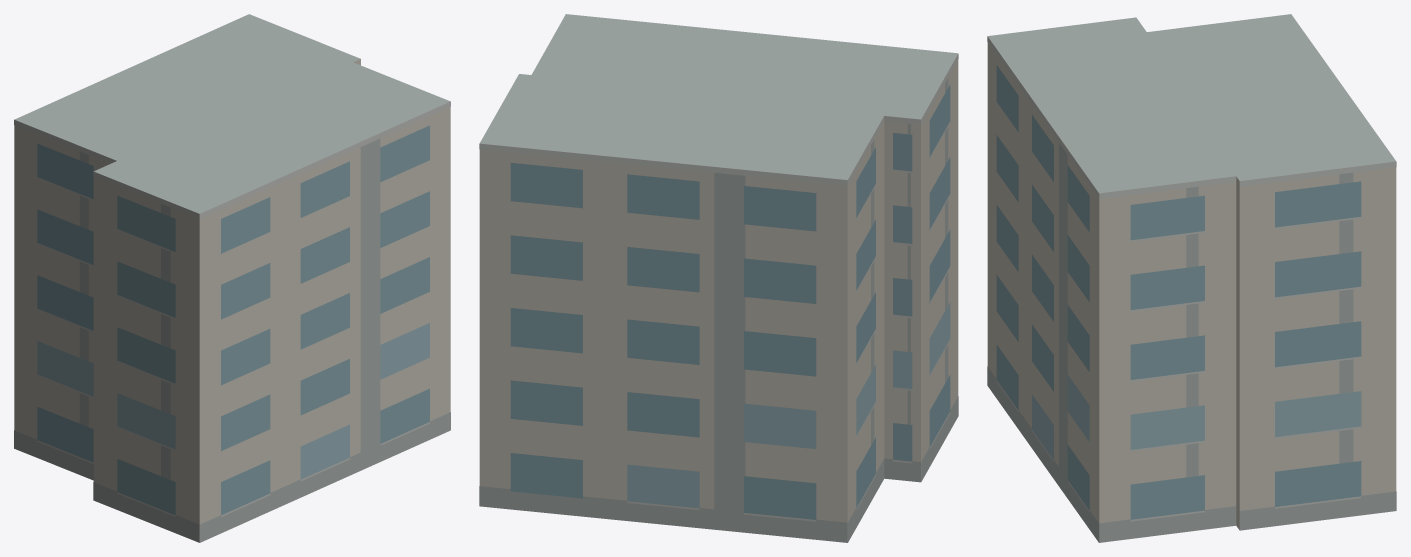
File: survey-upis-32997721.glb
3 renders of one model, left to right at view 1: azimuth 30°, elevation 25°; view 2: azimuth 150°, elevation 25°; view 3: azimuth 270°, elevation 25°, orthographic. The views are drawn at different scales.
Visible parts, largest first — view 1: survey-upis-32997721.tmp; view 2: survey-upis-32997721.tmp; view 3: survey-upis-32997721.tmp.
Part boxes in pixels (x1,y1,x2,y2): survey-upis-32997721.tmp: (14,14,450,542); survey-upis-32997721.tmp: (479,14,958,542); survey-upis-32997721.tmp: (987,14,1396,542).
Size of the model in its own units: 16.52 by 15 by 15.92.
